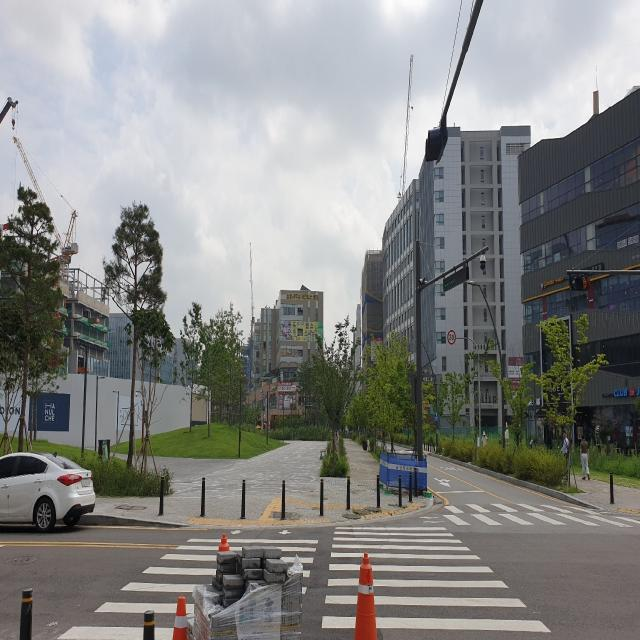횡단보도: (56, 525, 552, 640), (442, 498, 622, 529)
